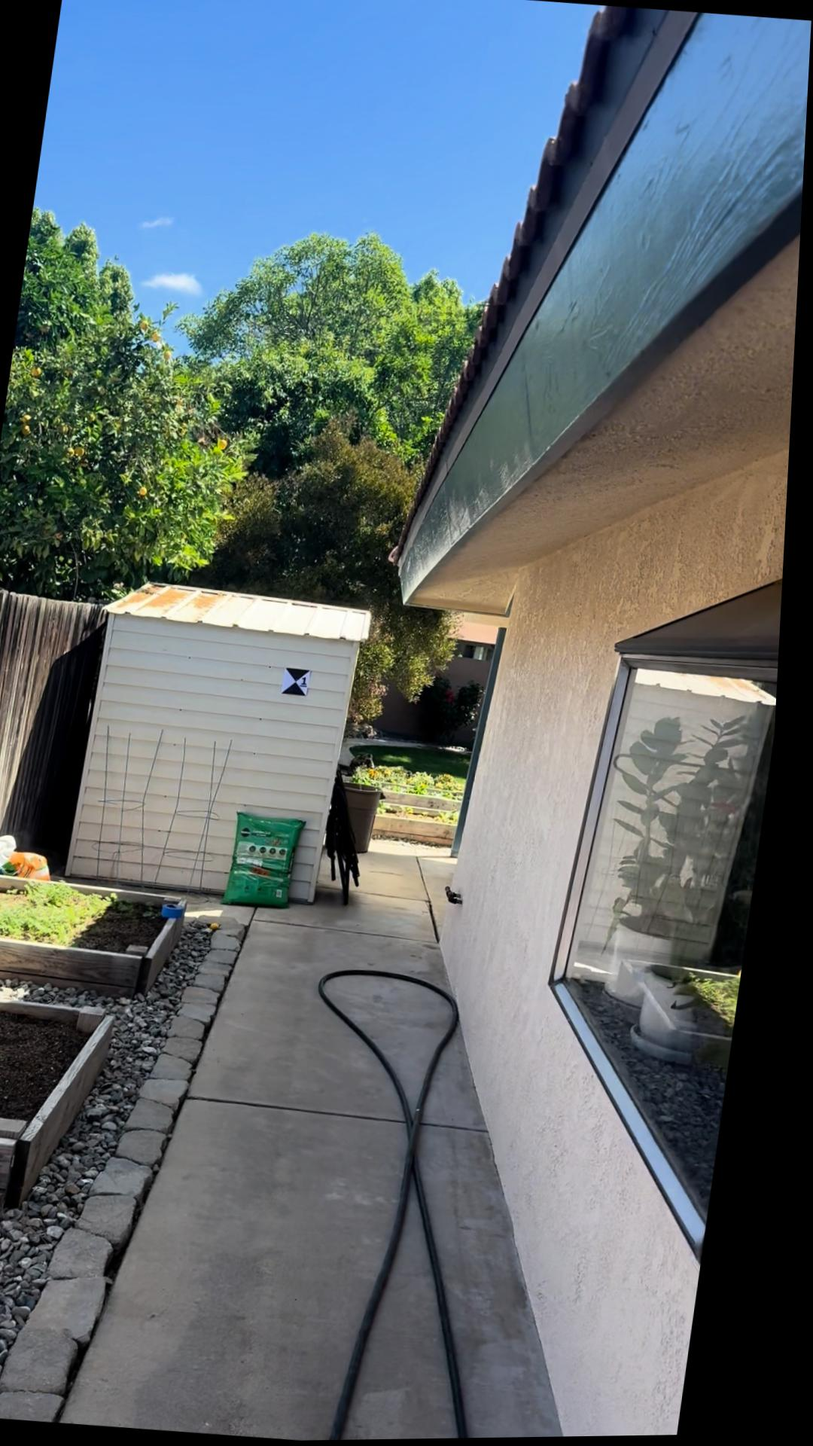target1: (277, 663, 312, 699)
